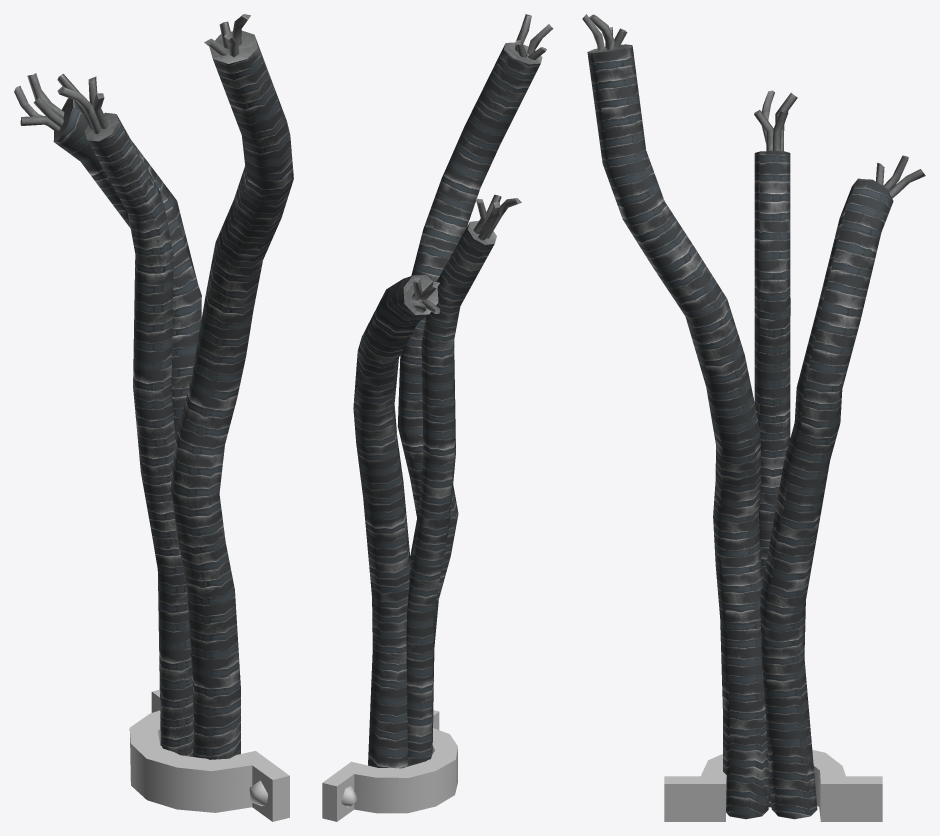
File: SM_wall_wire_05.fbx
3 renders of one model, left to right at view 1: azimuth 30°, elevation 25°; view 2: azimuth 150°, elevation 25°; view 3: azimuth 270°, elevation 25°, orthographic. The views are drawn at different scales.
Visible parts, largest first — view 1: SM_wall_wire_05_LOD0; view 2: SM_wall_wire_05_LOD0; view 3: SM_wall_wire_05_LOD0.
Part boxes in pixels (x1=…): SM_wall_wire_05_LOD0: x1=14, y1=14, x2=293, y2=821; SM_wall_wire_05_LOD0: x1=322, y1=14, x2=553, y2=821; SM_wall_wire_05_LOD0: x1=582, y1=14, x2=925, y2=821.
Size of the model in its own units: 21.79 by 41.52 by 103.
